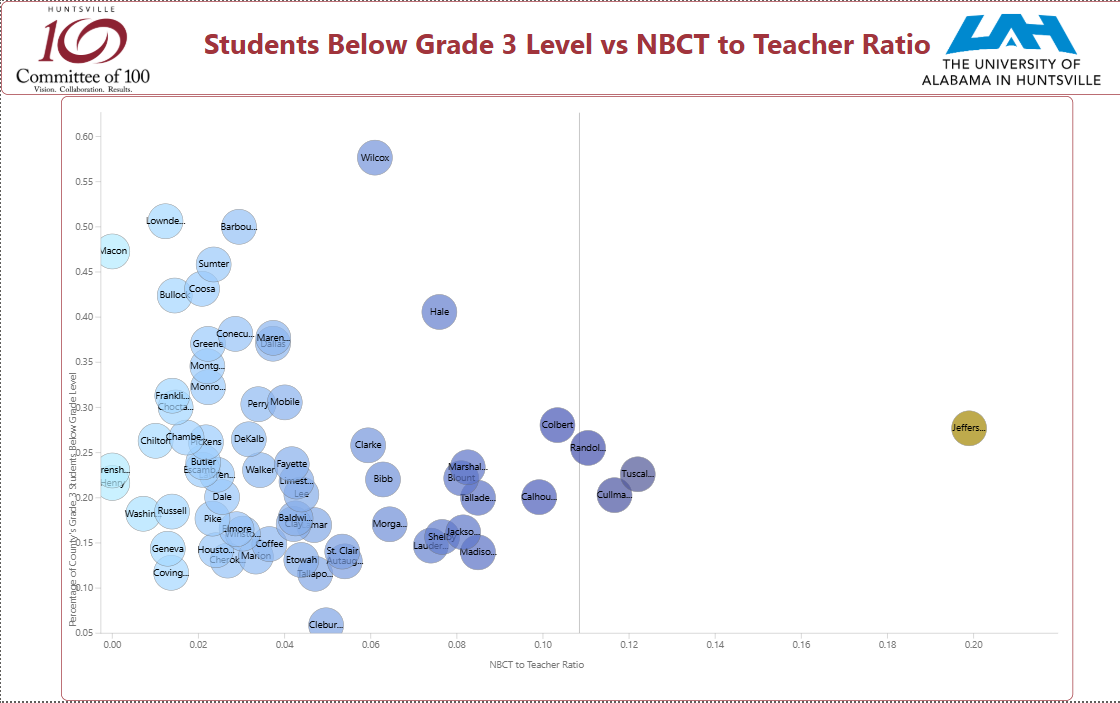

The page's visual inventory and layout, read from the dashboard file:
{"tool":"powerbi","page":{"name":"Students Below Grade 3 and Teacher Ratio","canvas":[1280,800],"ordinal":5},"visuals":[{"type":"image","box":[5.7,1.4,175.7,107.1],"z":0,"group":"g1"},{"type":"impactBubbleChart9F474F4C9D2243D7A6BB693D25F75740","title":"Students Below Grade 3 Level and NBCT to Teacher Ratio","fields":{"xAxis":["Sum(Proportions Comp.NBCT to Teacher Ratio)"],"yAxis":["Sum(Proportions Comp.Percentage of County's Grade 3 Students Below Grade Level)"],"name":["Proportions Comp.County Name"]},"box":[68.6,108.6,1157.1,691.4],"z":0},{"type":"actionButton","box":[0,0,100,40],"z":1000},{"type":"image","box":[1028.6,10,251.4,91.4],"z":1000,"group":"g1"},{"type":"textbox","box":[0,0,1292.9,107.1],"z":3000},{"type":"group","id":"g1","title":"Group 1","box":[5.7,1.4,1274.3,107.1],"z":3500}]}

Visuals, with their boxes in screenshot pixels (x1, y1, x2, y2), scaled from the page's 1280x800 canvas onto the 1120x703 screenshot:
image: [5, 1, 159, 95]
"Students Below Grade 3 Level and NBCT to Teacher Ratio" impactBubbleChart9F474F4C9D2243D7A6BB693D25F75740: [60, 95, 1072, 702]
actionButton: [0, 0, 88, 35]
image: [900, 9, 1119, 89]
textbox: [0, 0, 1119, 94]
"Group 1" group: [5, 1, 1119, 95]
